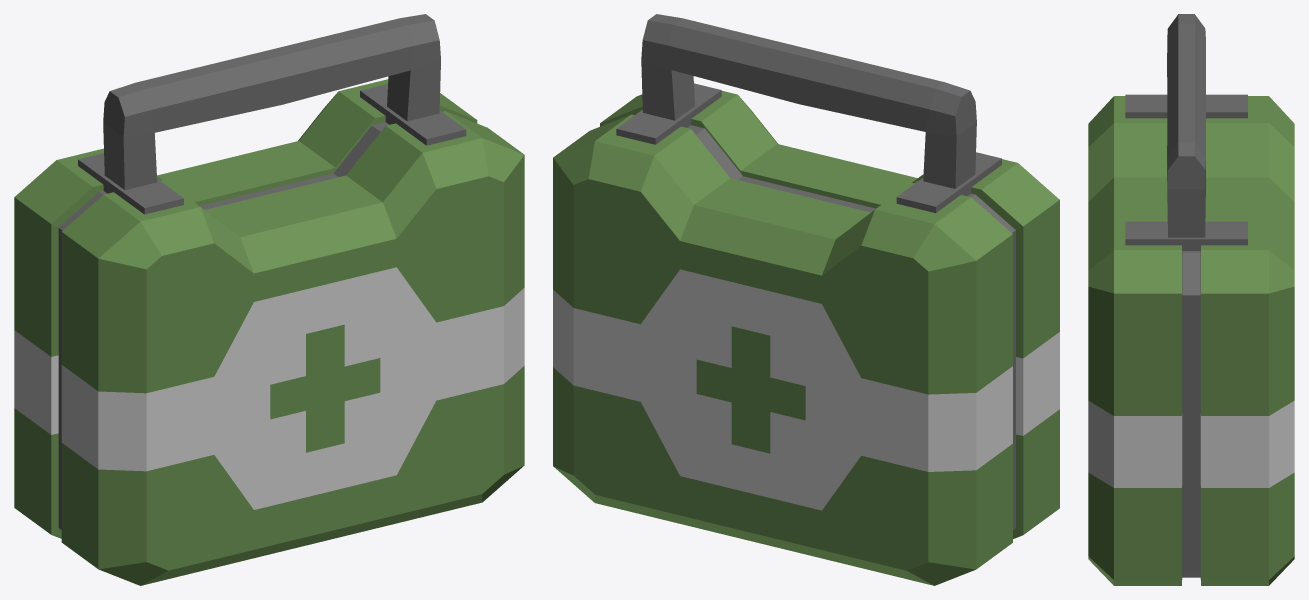
Rendered from pickup_repair.glb.
3 views of the same model, side by side, from view 1: azimuth 30°, elevation 25°; view 2: azimuth 150°, elevation 25°; view 3: azimuth 270°, elevation 25° (orthographic). The views are drawn at different scales.
Parts seen in each view (by area): view 1: body; view 2: body; view 3: body.
Part boxes in pixels (box(x1,y1,x2,y2)): body: box(14, 14, 524, 585); body: box(553, 14, 1059, 585); body: box(1088, 14, 1294, 585).
Bounding box in the file's own units: 0.966 × 1 × 0.4386.
